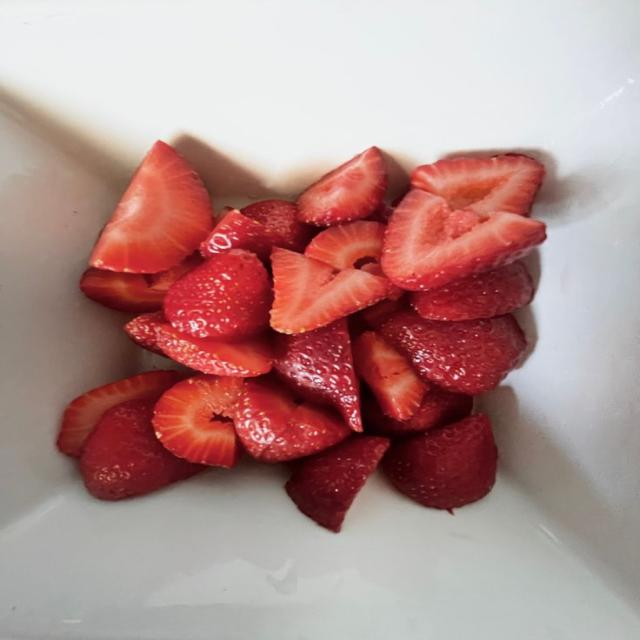strawberry sliced: (381, 190, 545, 290), (90, 141, 213, 273), (80, 400, 204, 500), (380, 311, 526, 395), (382, 415, 497, 510), (57, 371, 179, 457), (271, 248, 388, 333), (286, 436, 389, 532), (274, 319, 362, 431), (235, 378, 352, 462), (164, 250, 272, 340), (154, 376, 243, 467), (412, 154, 545, 214), (411, 261, 533, 320), (298, 147, 387, 225), (200, 200, 313, 259), (354, 332, 426, 420), (156, 323, 272, 377), (363, 387, 473, 437), (305, 220, 386, 277), (305, 221, 385, 270), (242, 200, 316, 251), (80, 268, 164, 312), (200, 210, 271, 259), (147, 253, 202, 292), (124, 312, 166, 355), (358, 299, 406, 329), (367, 203, 393, 224), (361, 263, 386, 277)
